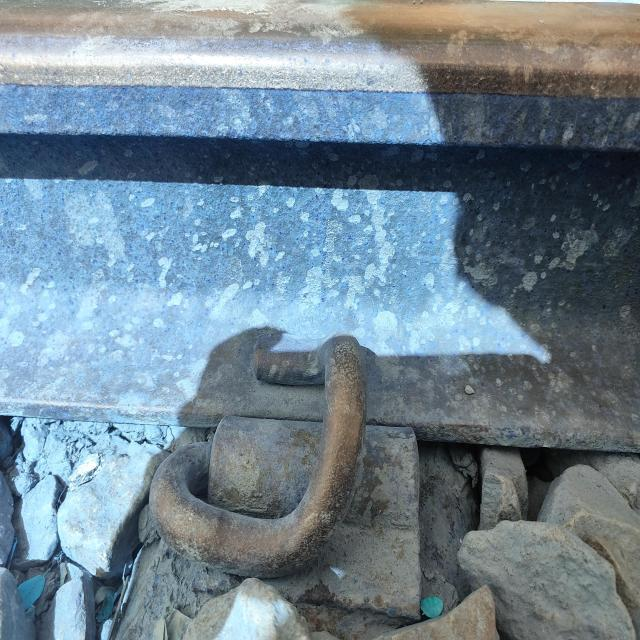Good Fasteners: (149, 332, 422, 620)
